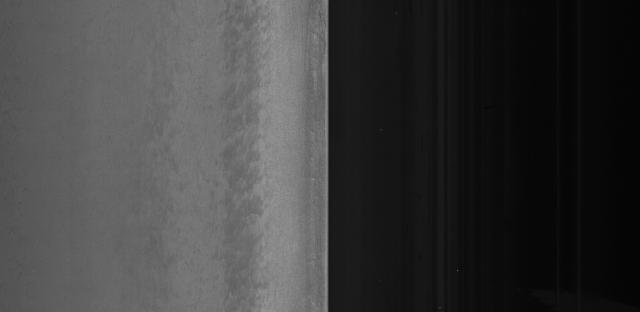silk_spot: (202, 127, 282, 214)
